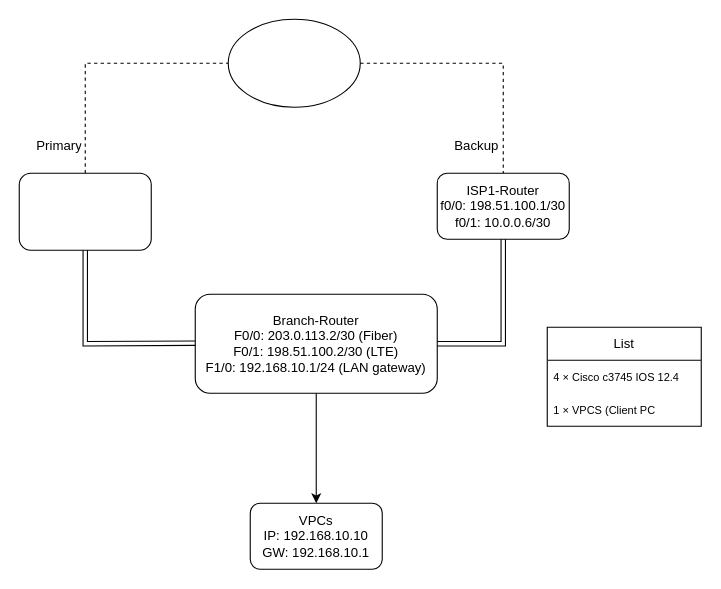
Some shapes in this 721 by 589 pixel diagram are drawn without their labels. The shapes that lost their labels are listed below. From the top down, each one's centre as x and y in pixels, then its label:
At (x=293, y=62): "internet Loopback0: 8.8.4.4 f0/0: 10.0.0.1 f0/1: 10.0.0.5".
At (x=84, y=211): "ISP1-Router f0/0: 203.0.113.1/30 f0/1: 10.0.0.2/30".
